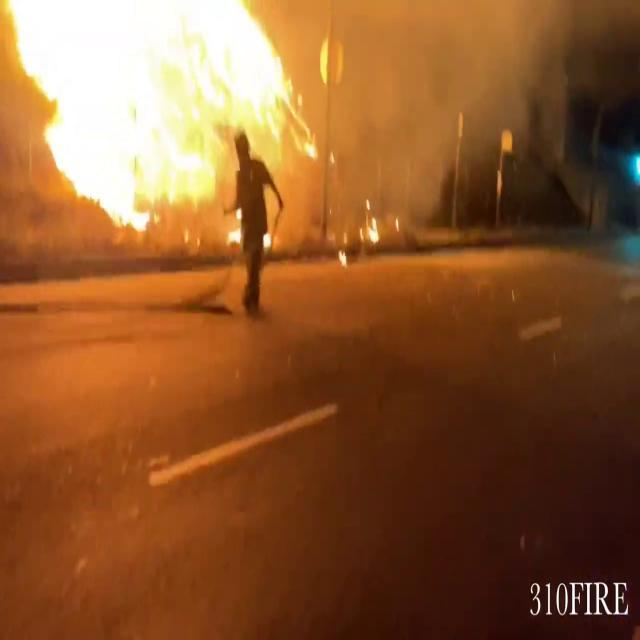Fire: (0, 0, 320, 234)
Smoke: (292, 0, 574, 186)
